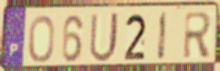2: (124, 12, 147, 62)
6: (61, 13, 85, 64)
I: (156, 10, 169, 63)
O: (27, 14, 56, 64)
R: (182, 10, 214, 61)
U: (88, 11, 121, 65)
